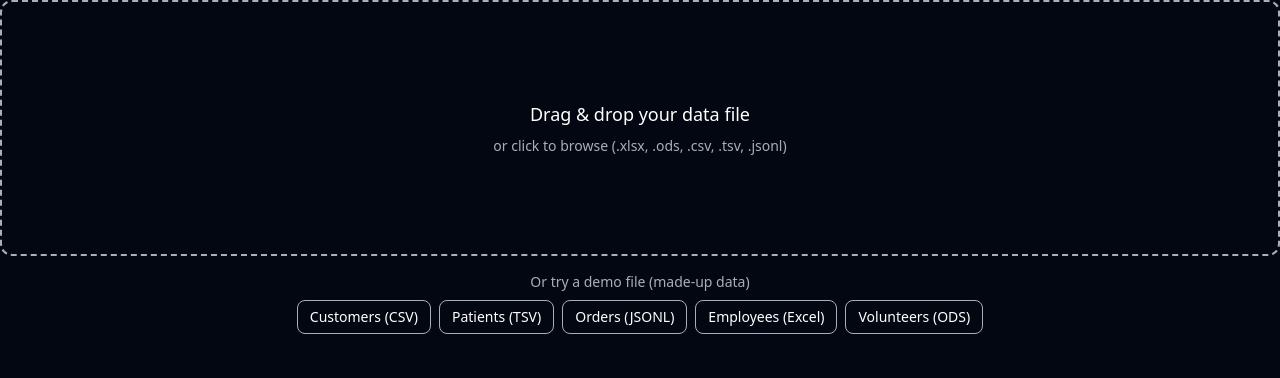
Test: Dropzone demo files › shows an error when the network is down
Click the button "Orders (JSONL)".
click(625, 317)  # box [562,300,687,334]
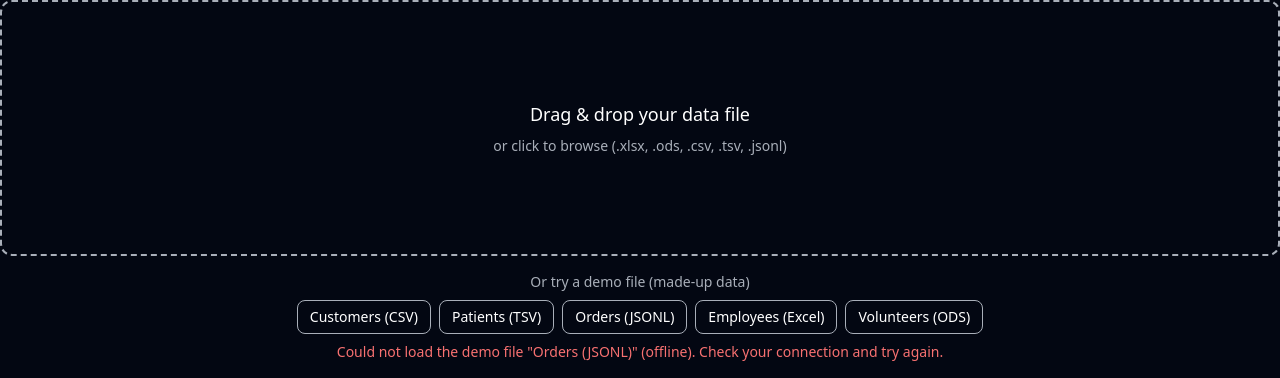
expect the message shows "offline": met, box [337,342,943,361]
